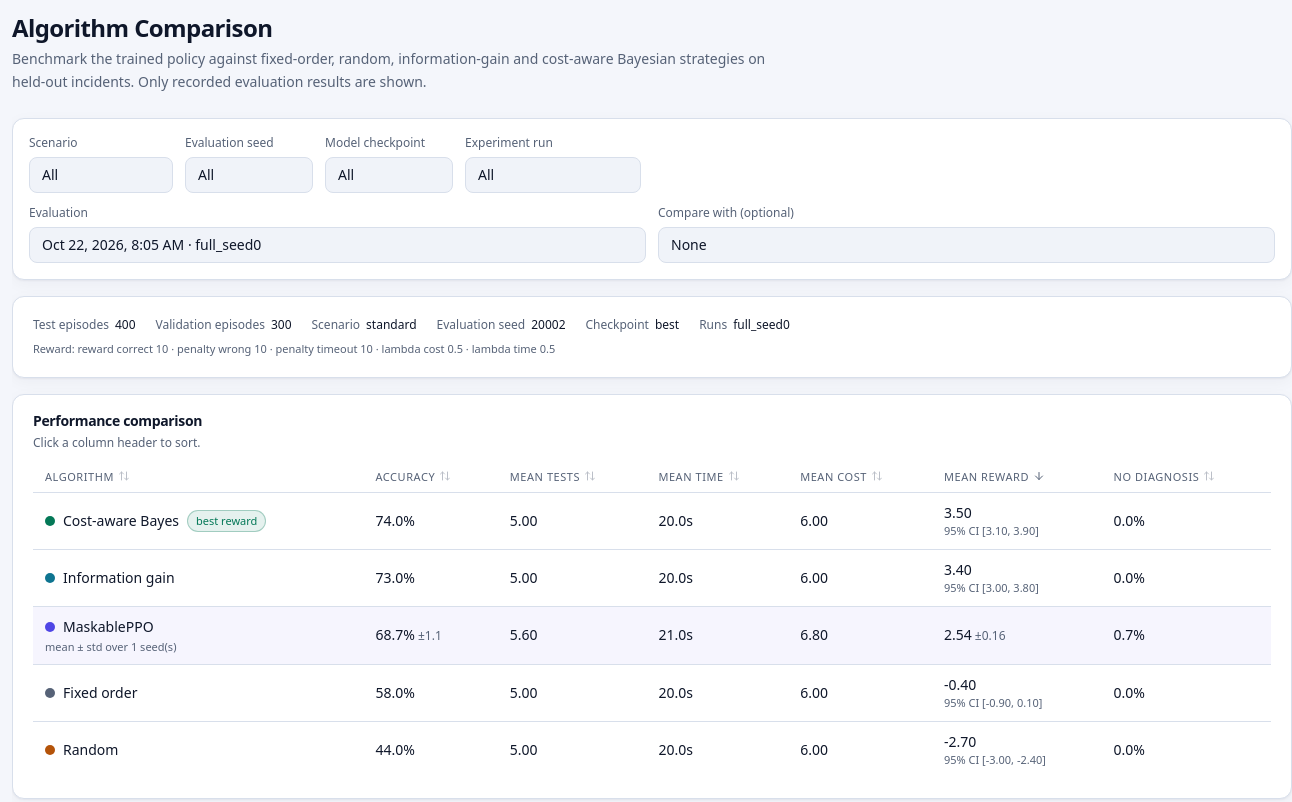
Comparison › filters evaluations by scenario and evaluation seed
The width and height of the screenshot is (1292, 802).
Expected: the table named "Performance comparison" is shown, [33,460,1271,778]
Select "small" in the dropdown labelled "Scenario" at (101, 174), box [29,156,173,192]
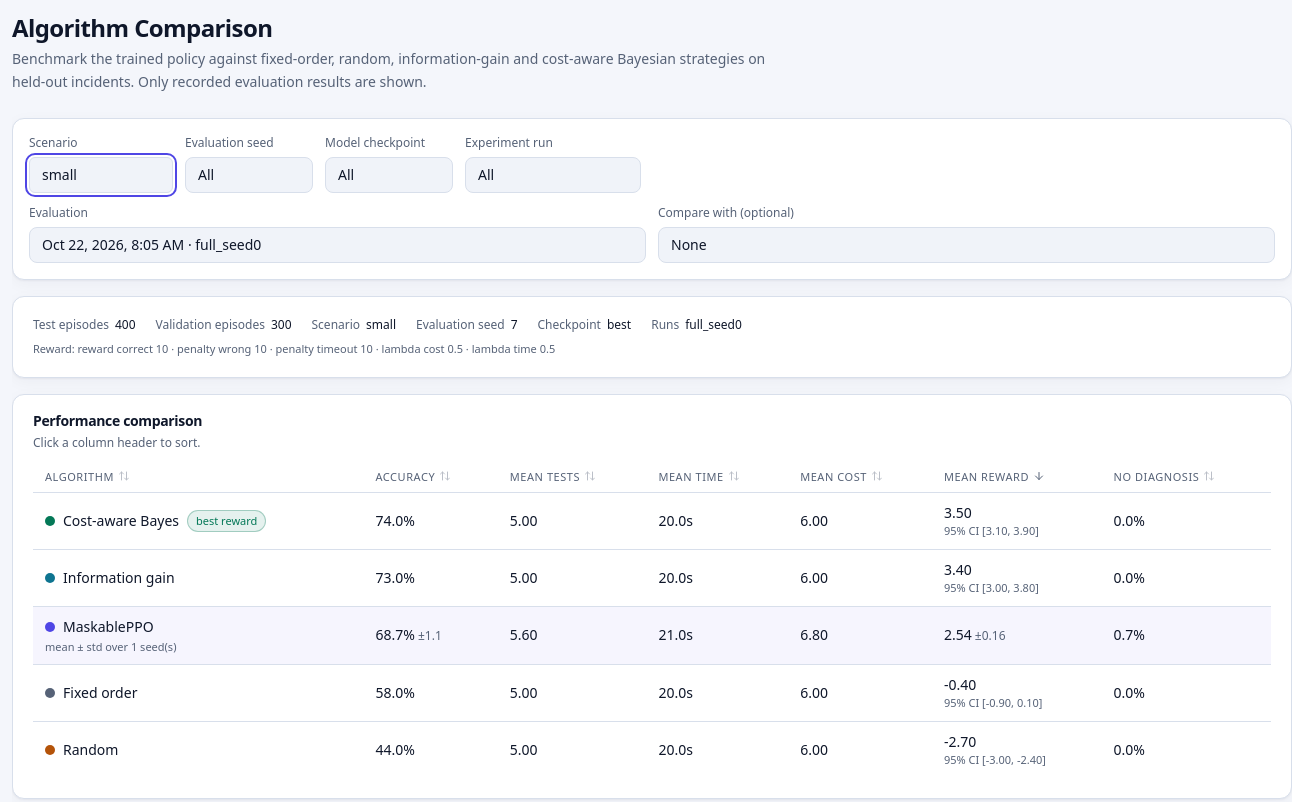
Select "20002" in the dropdown labelled "Evaluation seed" at (249, 174), box [185,156,313,192]
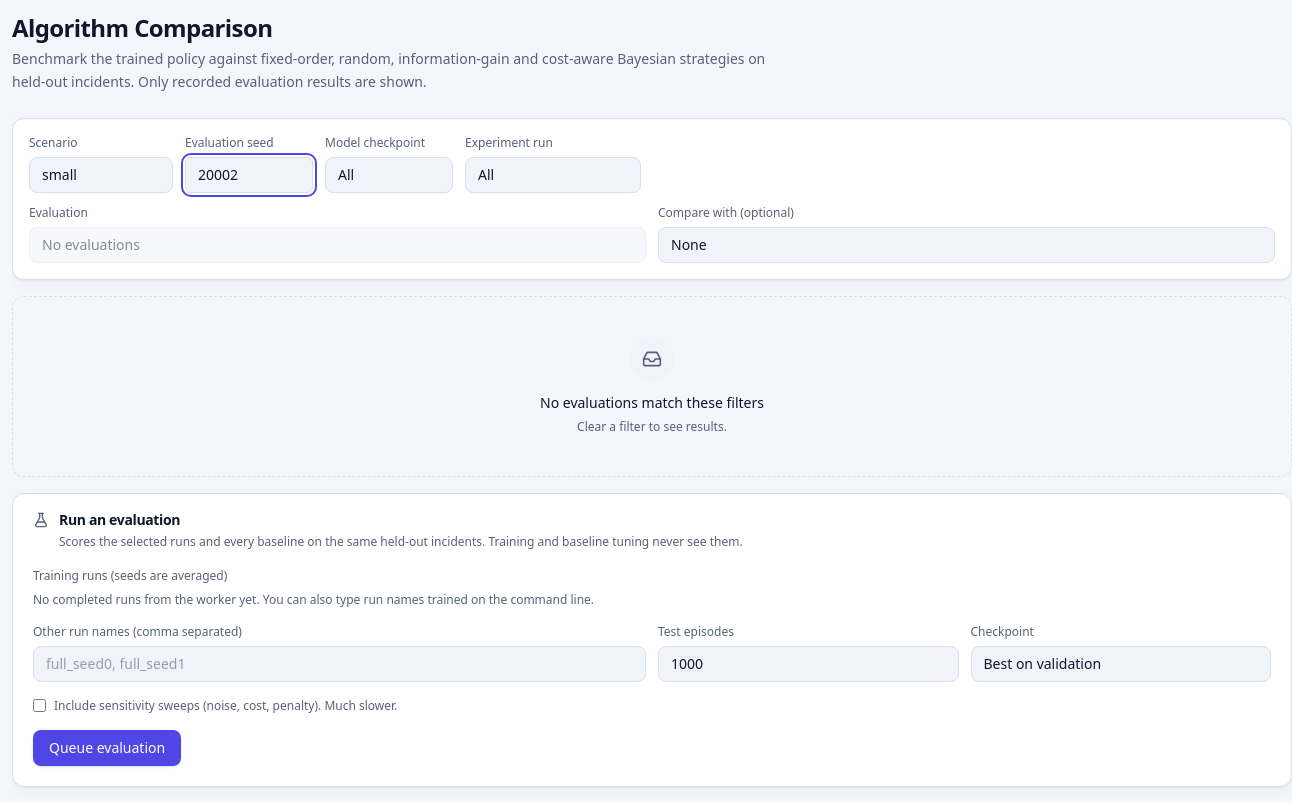
Expected: the text "No evaluations match these filters" is shown, [540,392,764,412]
